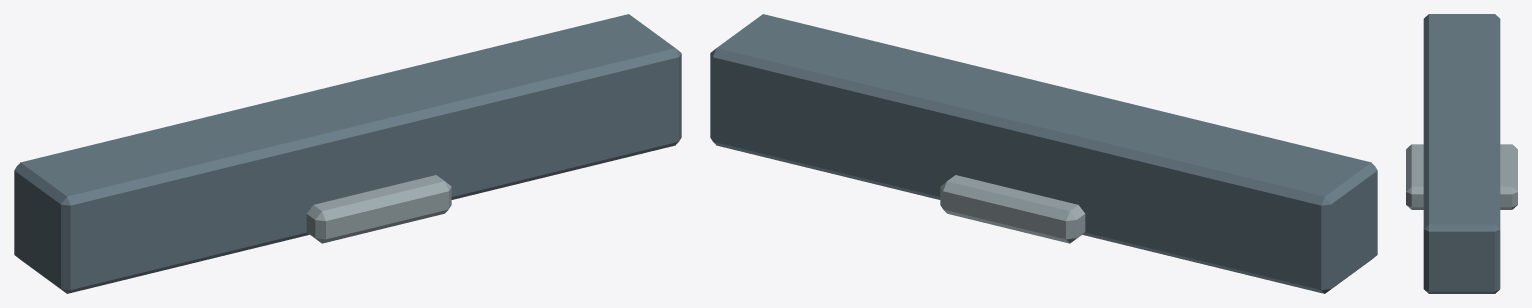
Rendered from architecture-beam.lod0.glb.
3 renders of one model, left to right at view 1: azimuth 30°, elevation 25°; view 2: azimuth 150°, elevation 25°; view 3: azimuth 270°, elevation 25°, orthographic. The views are drawn at different scales.
Visible parts, largest first — view 1: architecture-beam__body; view 2: architecture-beam__body; view 3: architecture-beam__body.
Boxes of the visible parts, box(x1,y1,x2,y2) form: architecture-beam__body: box(14, 14, 681, 293); architecture-beam__body: box(710, 14, 1377, 293); architecture-beam__body: box(1406, 14, 1517, 293).
Size of the model in its own units: 2 by 0.3 by 0.44.
